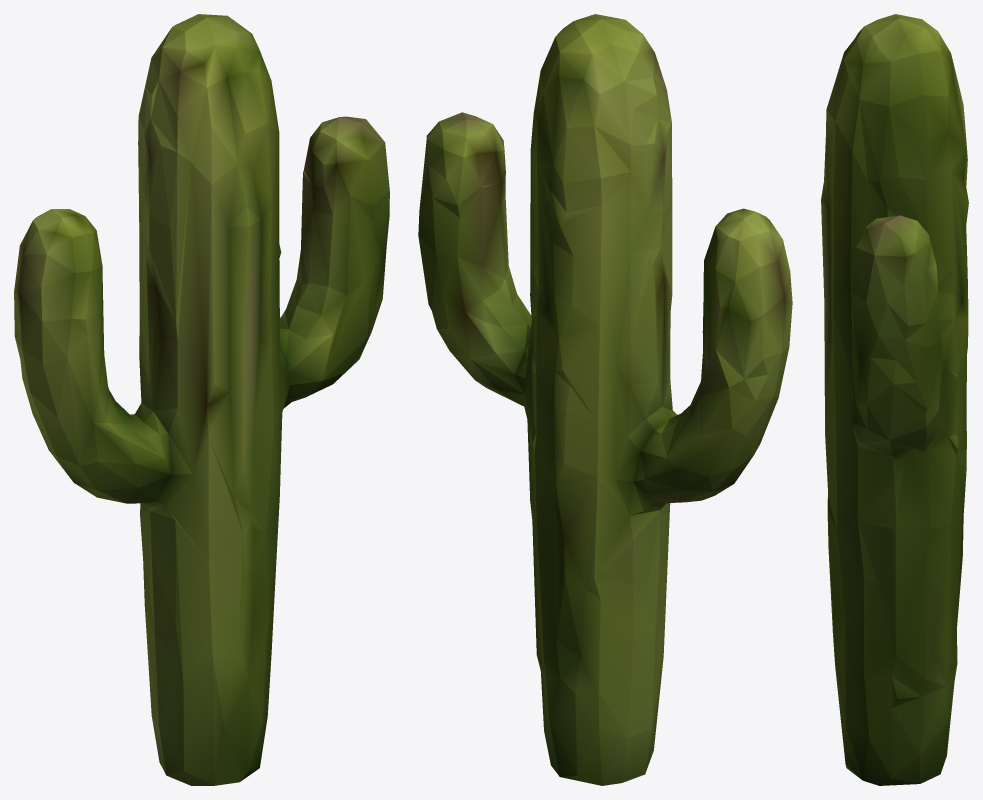
The model's file is cactus.glb.
The picture shows the model from 3 angles, left to right: view 1: azimuth 30°, elevation 25°; view 2: azimuth 150°, elevation 25°; view 3: azimuth 270°, elevation 25°; orthographic projection.
Parts seen in each view (by area): view 1: world; view 2: world; view 3: world.
Boxes of the visible parts, bbox=[...] form: world: bbox=[14, 14, 389, 785]; world: bbox=[418, 14, 792, 785]; world: bbox=[821, 14, 968, 785].
Size of the model in its own units: 0.5035 by 1 by 0.1789.
